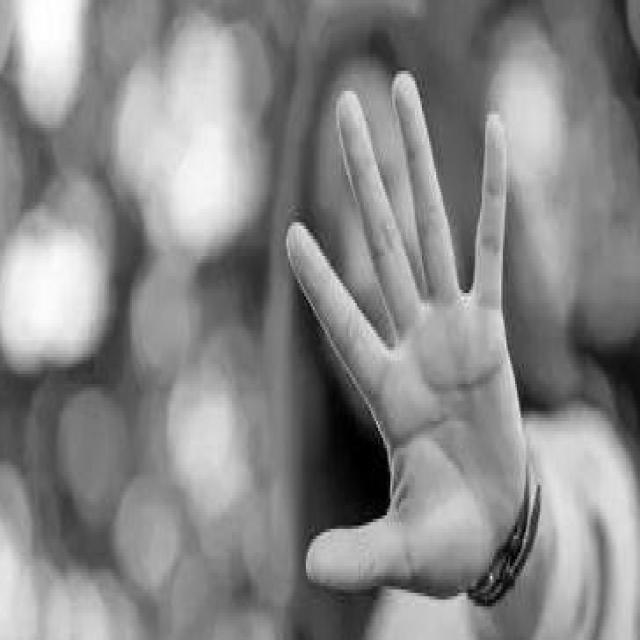stop: (282, 65, 534, 610)
